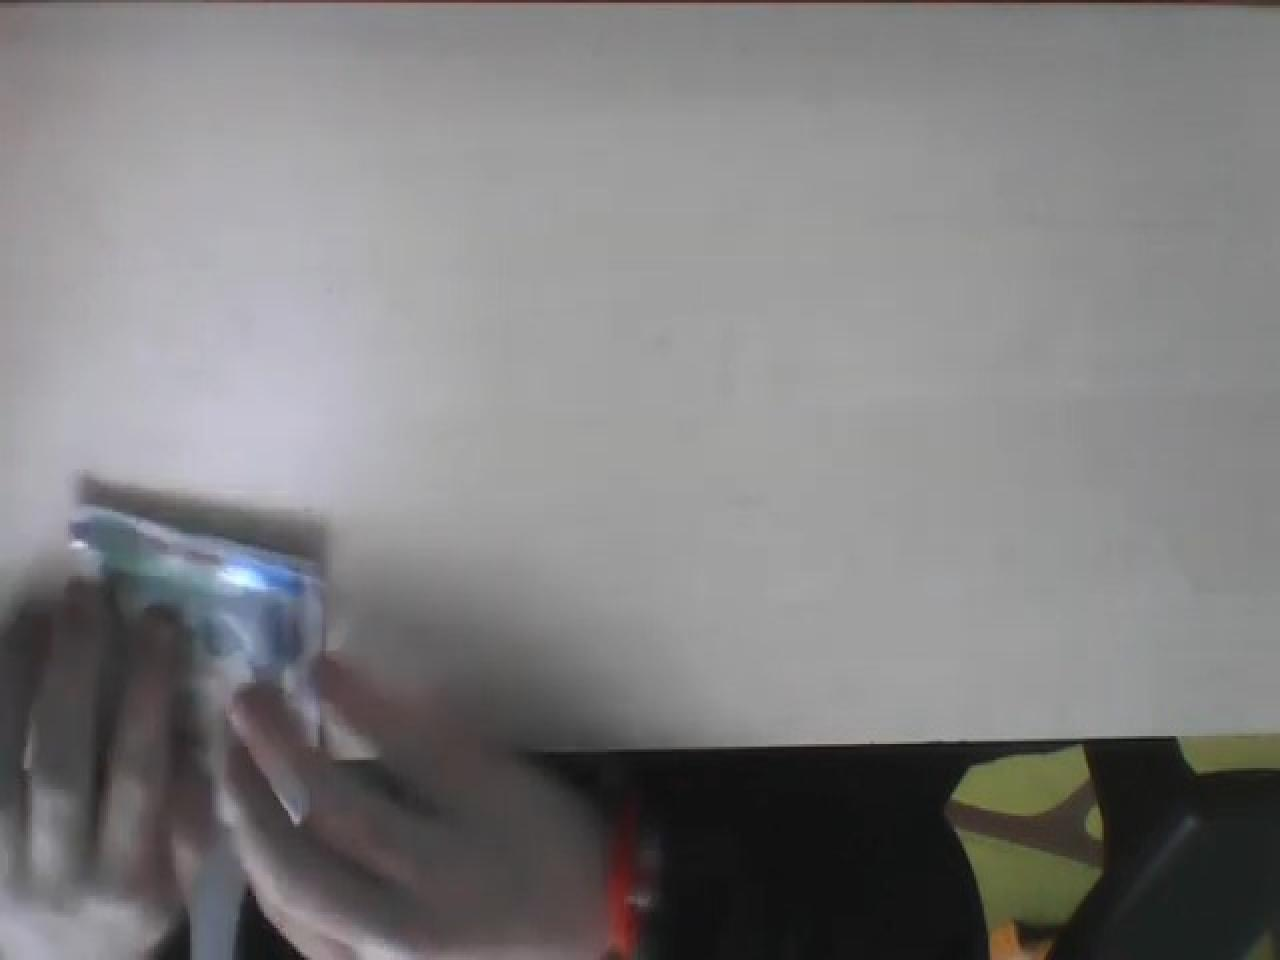100leva: (63, 501, 330, 830)
